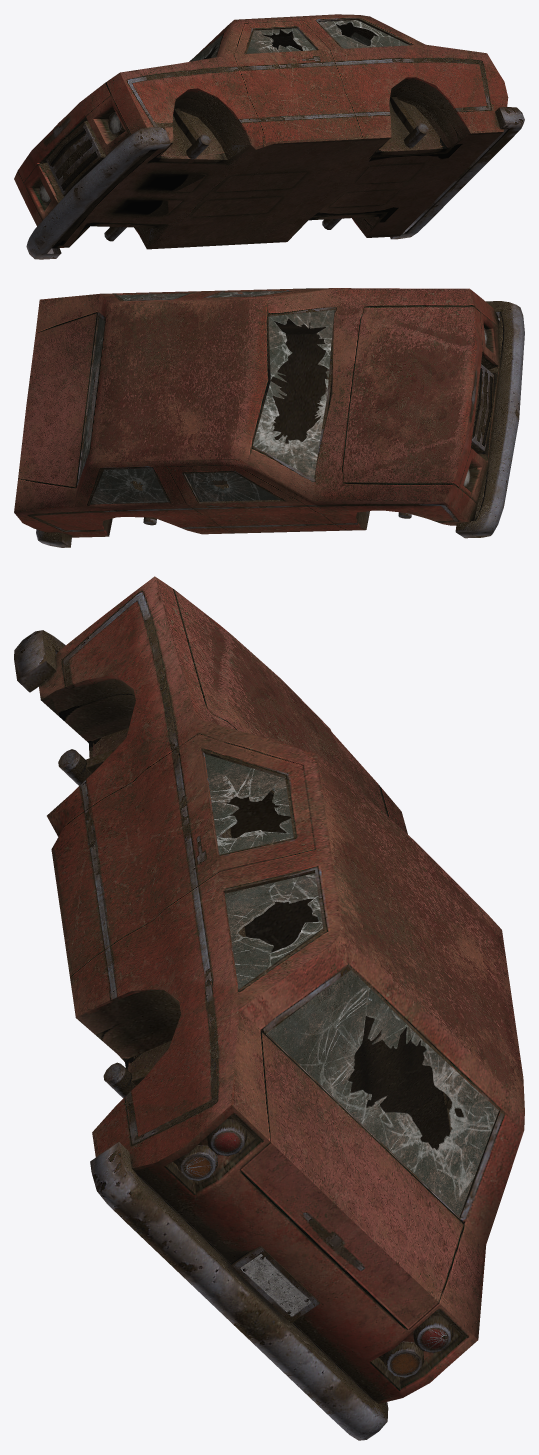
File: CarFinalRed.fbx
3 views of the same model, one above another, from view 1: azimuth 30°, elevation 25°; view 2: azimuth 150°, elevation 25°; view 3: azimuth 270°, elevation 25° (orthographic). The views are drawn at different scales.
Visible parts, largest first — view 1: Box002, Plane002; view 2: Box002, Plane002; view 3: Box002, Plane002.
Boxes of the visible parts, bbox=[...] form: Box002: bbox=[14, 14, 524, 259]; Plane002: bbox=[190, 20, 409, 61]; Box002: bbox=[14, 288, 524, 547]; Plane002: bbox=[80, 291, 334, 504]; Box002: bbox=[14, 576, 524, 1440]; Plane002: bbox=[204, 754, 498, 1216].
Size of the model in its own units: 499 by 304 by 258.
